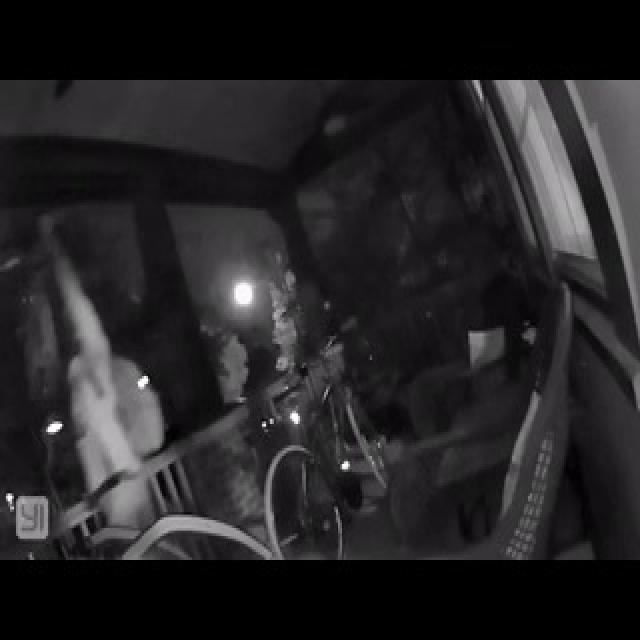thief: (10, 236, 161, 562)
